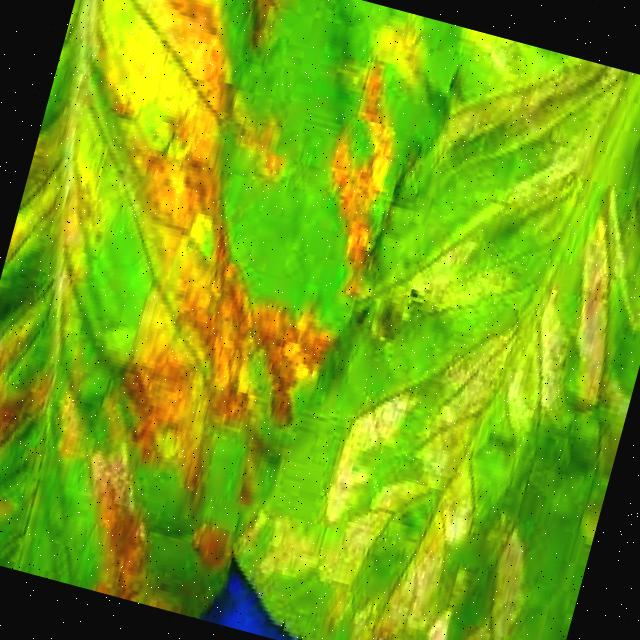Downy_mildew_on_lettuce: (0, 0, 367, 587), (311, 42, 640, 640)
